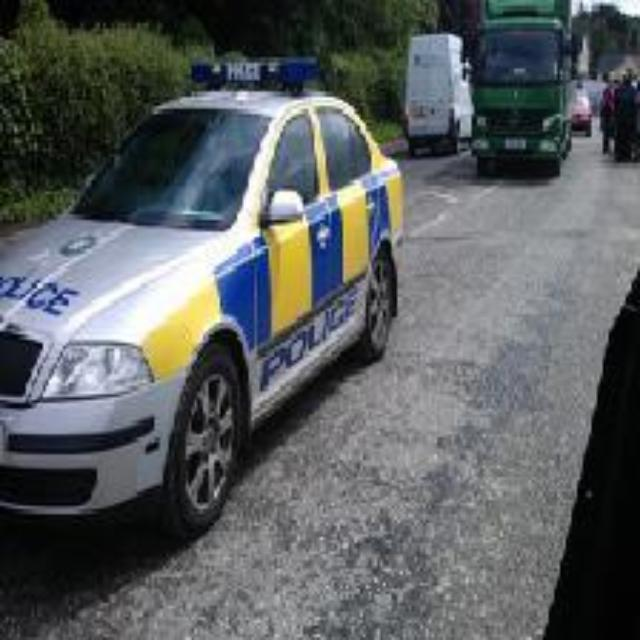emergency: (15, 57, 392, 545)
